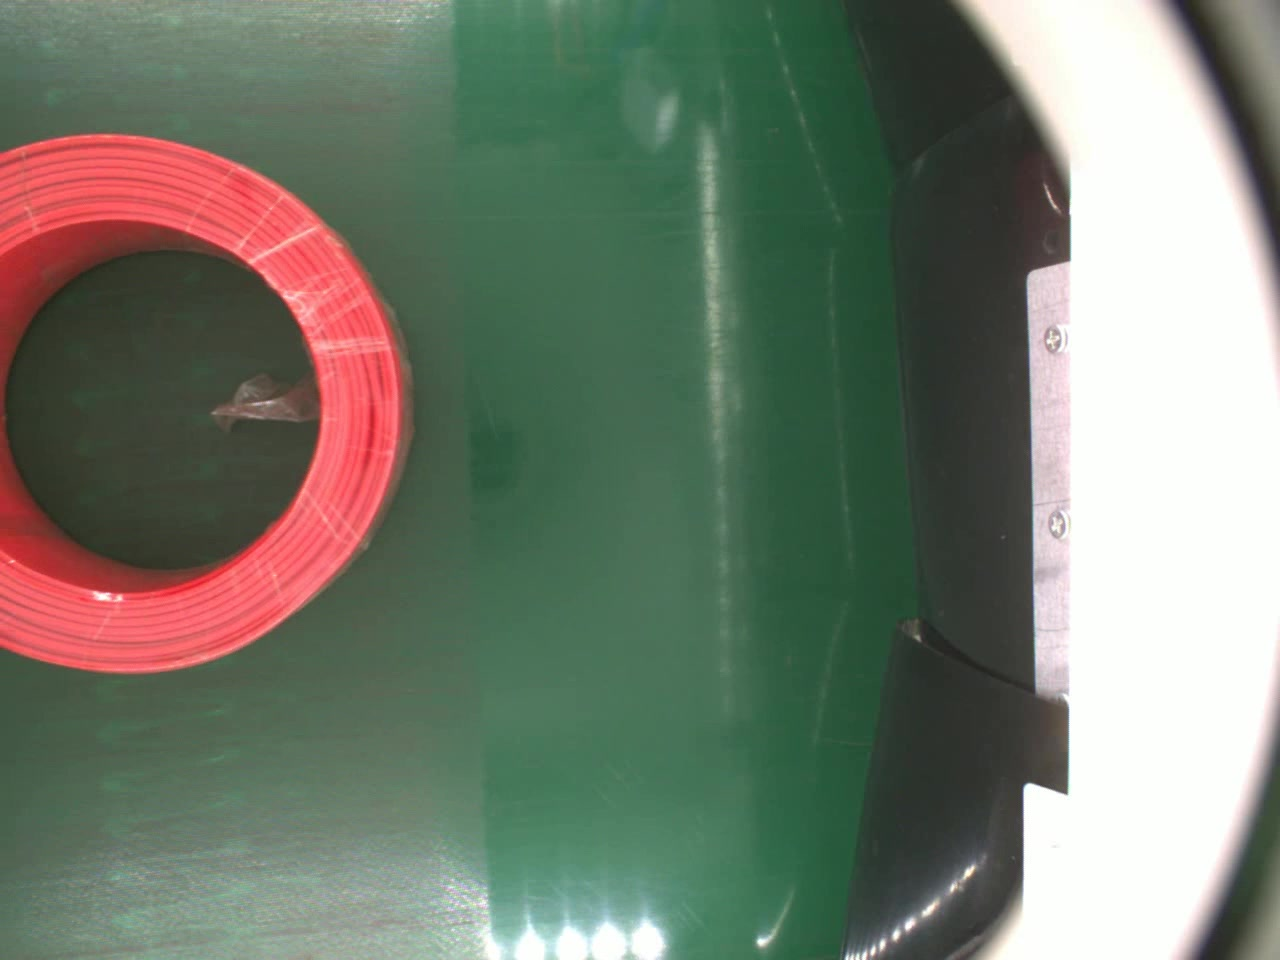red: (0, 129, 418, 678)
